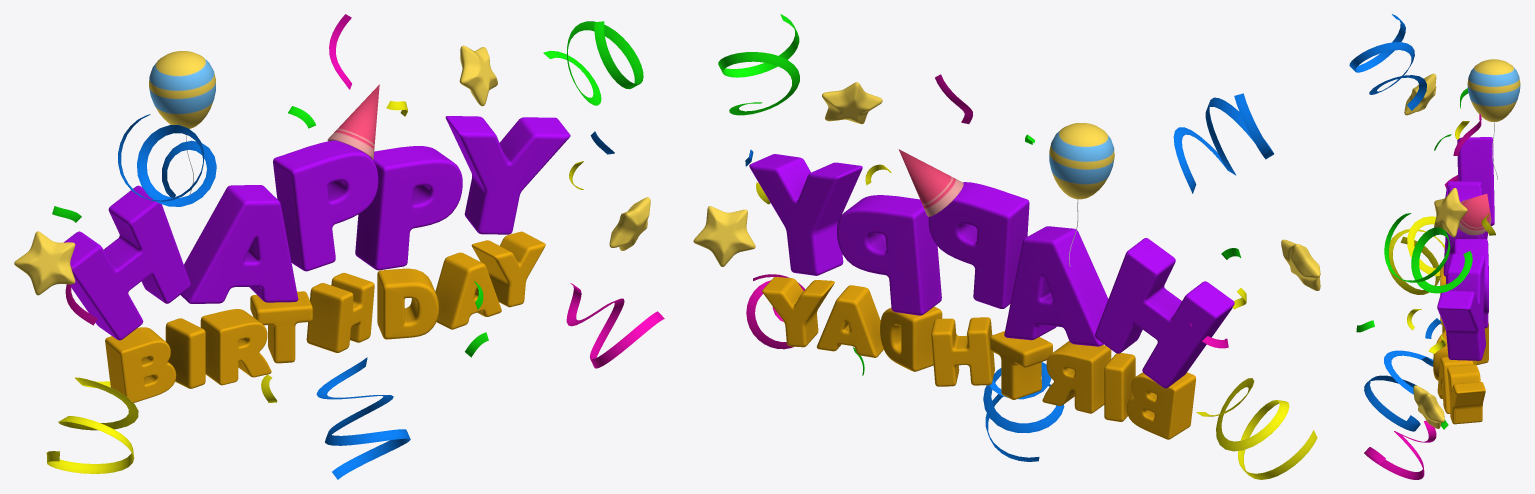
3 renders of one model, left to right at view 1: azimuth 30°, elevation 25°; view 2: azimuth 150°, elevation 25°; view 3: azimuth 270°, elevation 25°, orthographic. The views are drawn at different scales.
Parts seen in each view (by area): view 1: BHGSHOLBIRTHDY_9.1; view 2: BHGSHOLBIRTHDY_9.1; view 3: BHGSHOLBIRTHDY_9.1.
Part boxes in pixels (x1,y1,x2,y2): BHGSHOLBIRTHDY_9.1: [14, 14, 664, 479]; BHGSHOLBIRTHDY_9.1: [693, 14, 1320, 479]; BHGSHOLBIRTHDY_9.1: [1349, 14, 1520, 479].
Size of the model in its own units: 1.09 by 0.6903 by 0.3232.
1 material, 1 textured.
